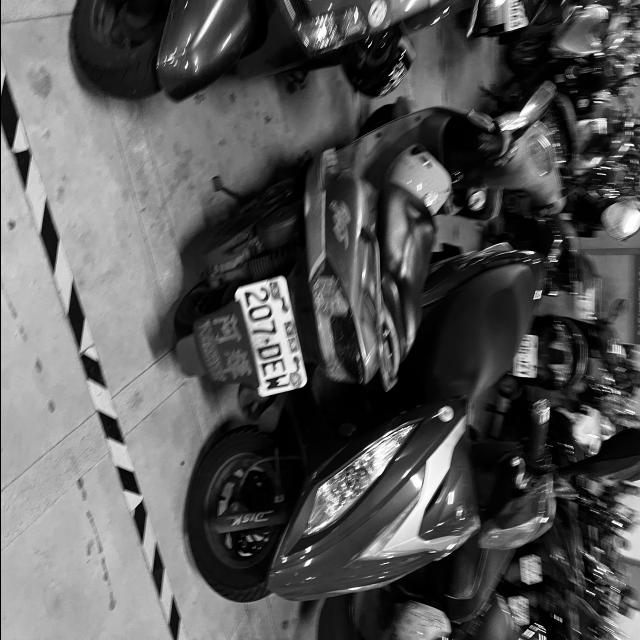-: (262, 337, 270, 345)
0: (246, 301, 275, 326)
2: (242, 285, 272, 308)
7: (250, 318, 278, 336)
D: (256, 343, 283, 362)
E: (258, 356, 288, 381)
W: (262, 371, 293, 393)
plate: (238, 276, 304, 395)
